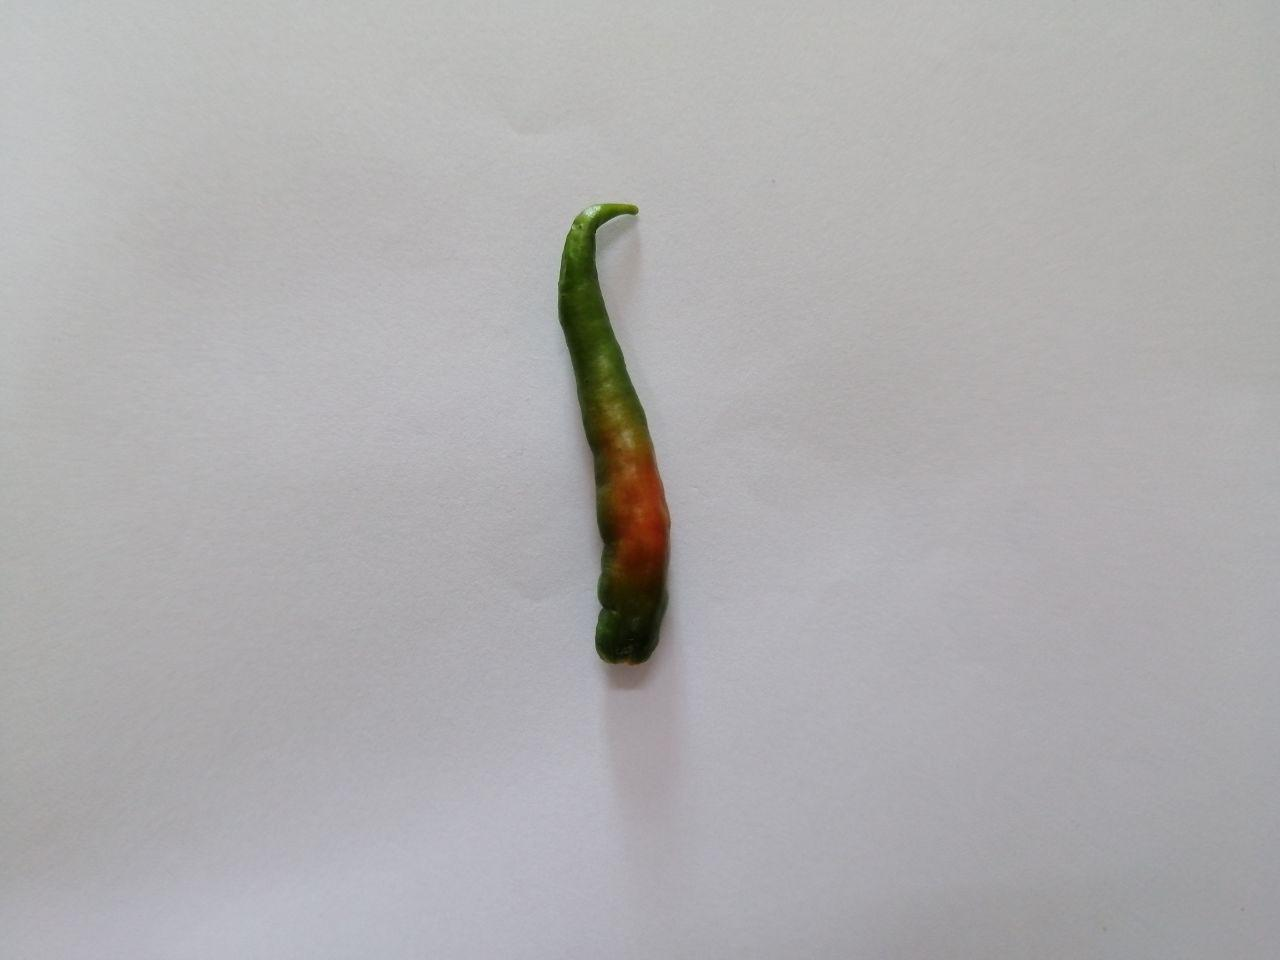lada hijau: (525, 186, 718, 684)
